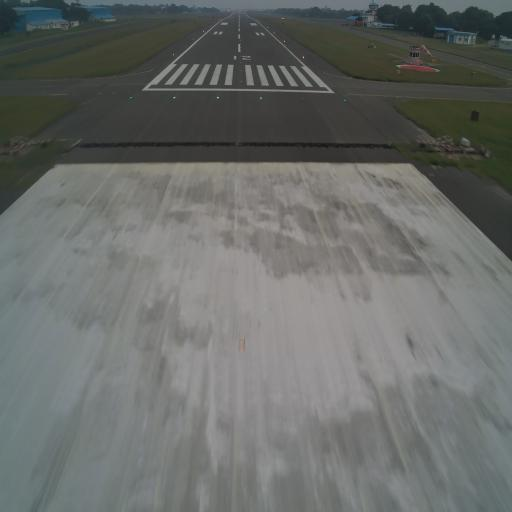off: (301, 96, 305, 101)
on: (233, 330, 247, 360), (172, 94, 176, 102), (129, 94, 133, 101), (342, 97, 346, 103), (259, 96, 264, 100), (216, 94, 219, 100)
